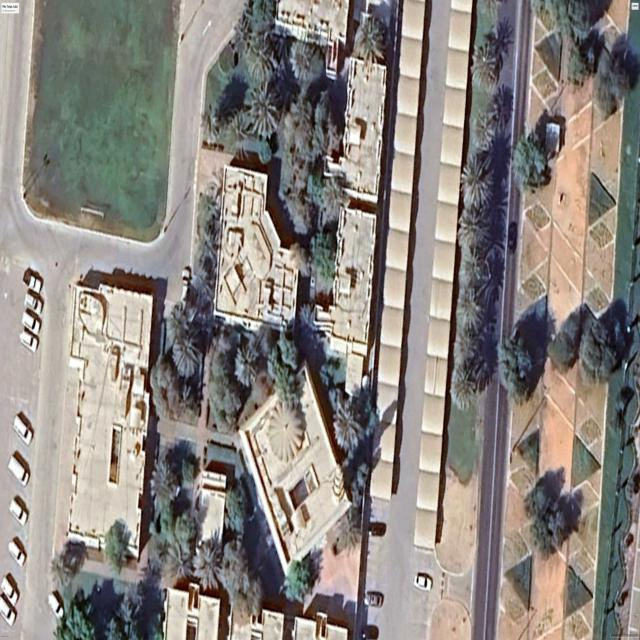mosque: (239, 364, 350, 573)
